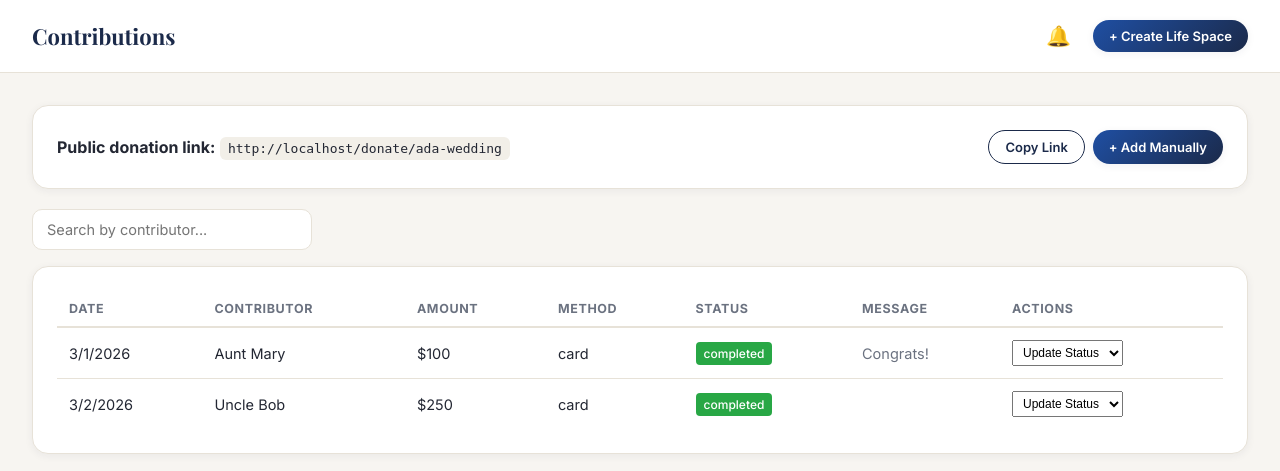
Test case: Contributions › filters the list by contributor name, case-insensitively
Expected: the text "Aunt Mary" is shown, [202,327,405,378]
Type "bob" into the field with placeholder "Search by contributor..." at (172, 230), box [32,209,312,250]
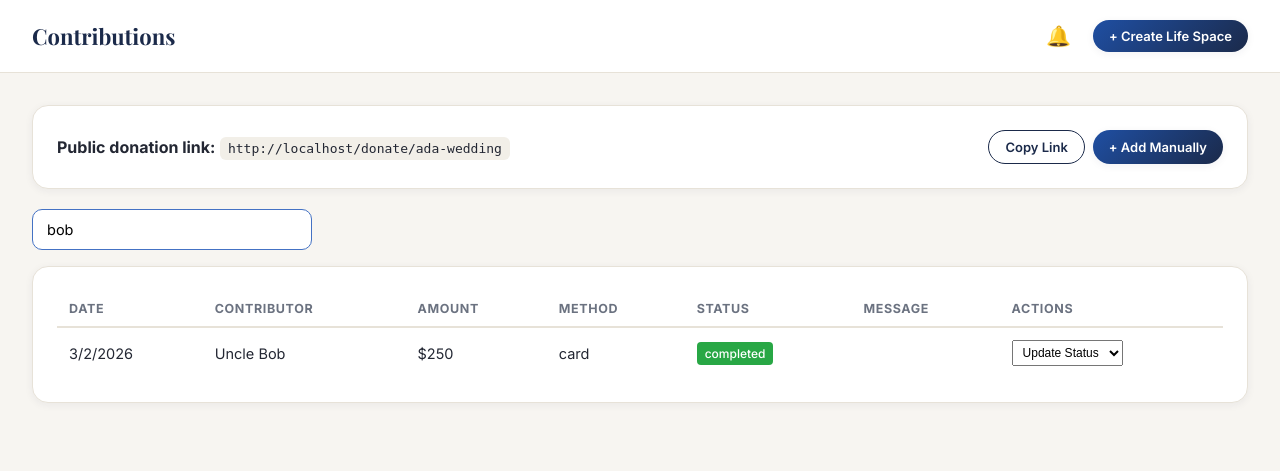
Expected: the text "Uncle Bob" is shown, [203,327,406,378]
Expected: the text "Aunt Mary" is gone
